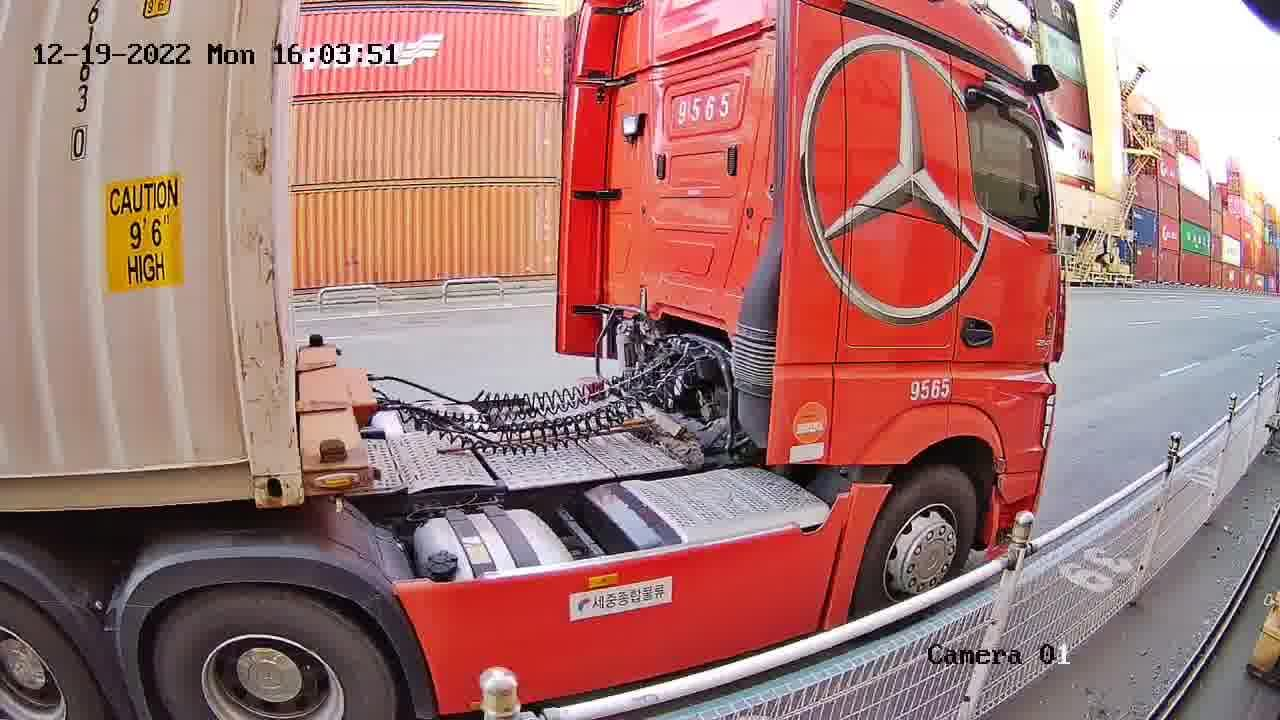Chassis: (301, 345, 372, 493)
Cone: (318, 436, 357, 513), (307, 334, 326, 347)
Hole_R: (197, 407, 304, 505)
Tire: (156, 591, 391, 716), (1, 593, 103, 719)
